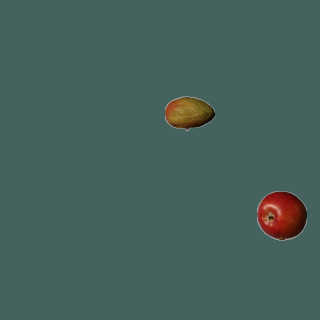Apple Braeburn: (256, 190, 306, 240)
Papaya: (164, 88, 214, 138)
